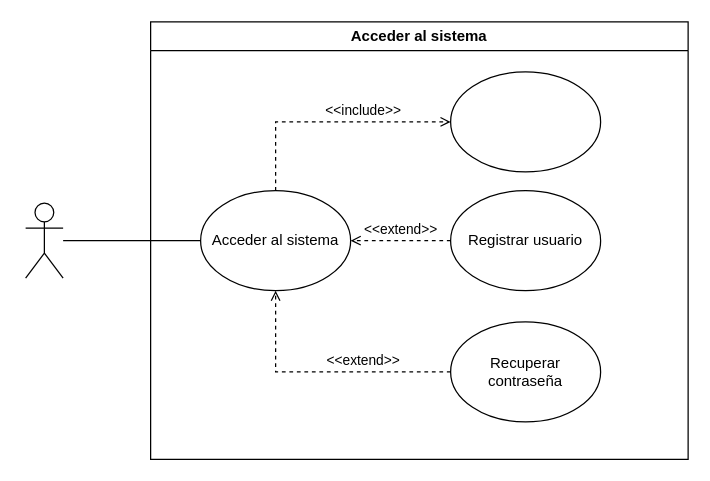
Image size: 710x481. Some labels were removed from this diagram. The box of each missing label's shape, as (x1, y1, x2, y2) in pixels:
Iniciar sesión: (449, 71, 601, 172)
Viajero: (24, 202, 63, 278)
